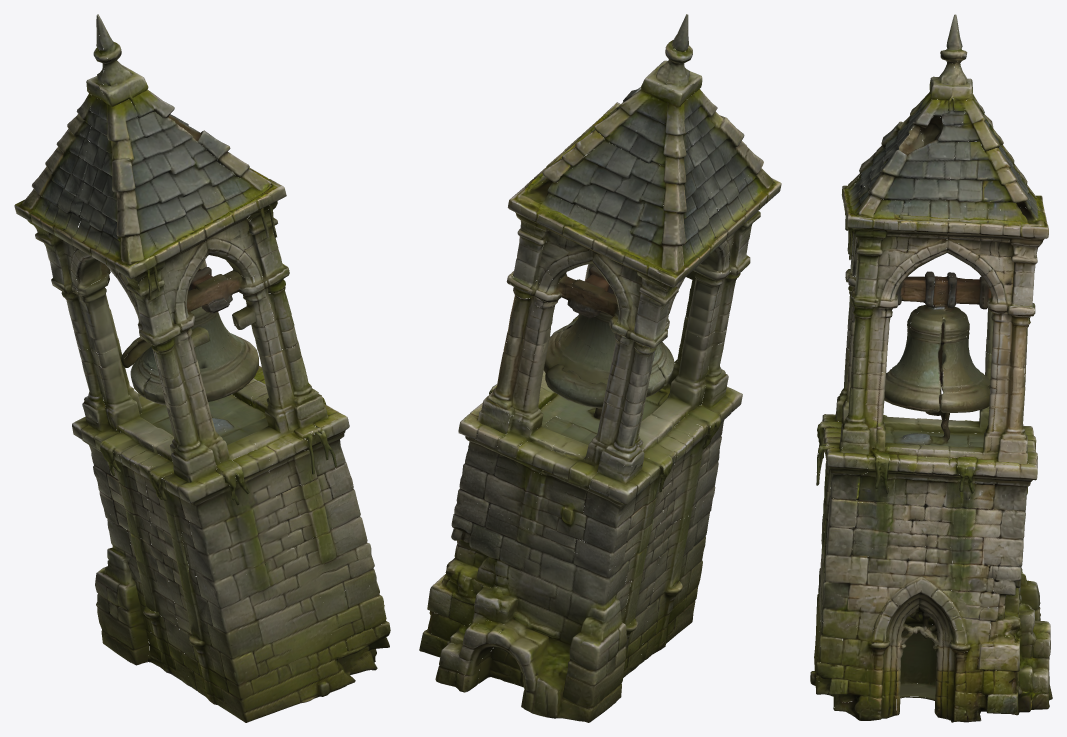
File: sunken-bell-tower-tripo.glb
The picture shows the model from 3 angles, left to right: view 1: azimuth 30°, elevation 25°; view 2: azimuth 150°, elevation 25°; view 3: azimuth 270°, elevation 25°; orthographic projection. The views are drawn at different scales.
Visible parts, largest first — view 1: tripo_node_3723f75f-fa9c-4de1-87bc-50f5011af9e0; view 2: tripo_node_3723f75f-fa9c-4de1-87bc-50f5011af9e0; view 3: tripo_node_3723f75f-fa9c-4de1-87bc-50f5011af9e0.
Boxes of the visible parts, x1,y1,x2,y2 form: tripo_node_3723f75f-fa9c-4de1-87bc-50f5011af9e0: [14, 14, 390, 722]; tripo_node_3723f75f-fa9c-4de1-87bc-50f5011af9e0: [419, 14, 781, 722]; tripo_node_3723f75f-fa9c-4de1-87bc-50f5011af9e0: [810, 14, 1052, 722].
Size of the model in its own units: 0.4112 by 0.9999 by 0.356.
Materials: 1 (1 with a texture image).
